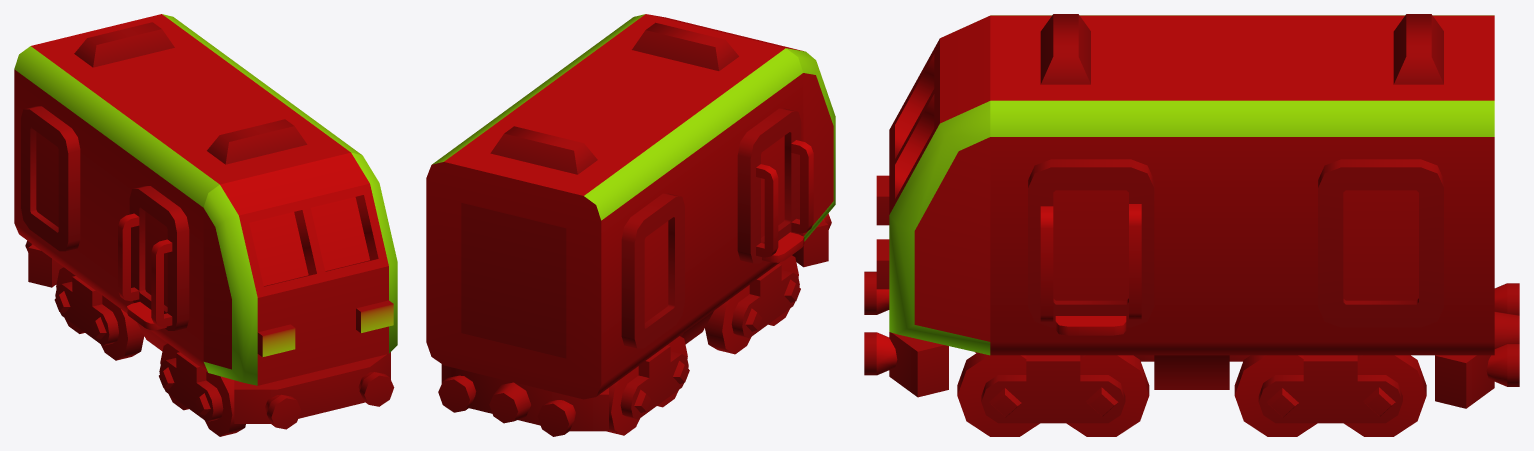
File: train-subway-a.glb
3 renders of one model, left to right at view 1: azimuth 30°, elevation 25°; view 2: azimuth 150°, elevation 25°; view 3: azimuth 270°, elevation 25°, orthographic. The views are drawn at different scales.
Parts seen in each view (by area): view 1: train-electric-subway-a, wheels-back, wheels-front; view 2: train-electric-subway-a, wheels-front, wheels-back; view 3: train-electric-subway-a, wheels-front, wheels-back.
Boxes of the visible parts, x1,y1,x2,y2 form: train-electric-subway-a: [14, 14, 397, 429]; wheels-back: [54, 267, 144, 360]; wheels-front: [159, 343, 245, 436]; train-electric-subway-a: [426, 14, 835, 436]; wheels-front: [705, 255, 800, 354]; wheels-back: [607, 336, 689, 435]; train-electric-subway-a: [864, 14, 1519, 408]; wheels-front: [957, 352, 1149, 436]; wheels-back: [1234, 355, 1426, 436].
Size of the model in its own units: 1.35 by 1.57 by 2.6.
